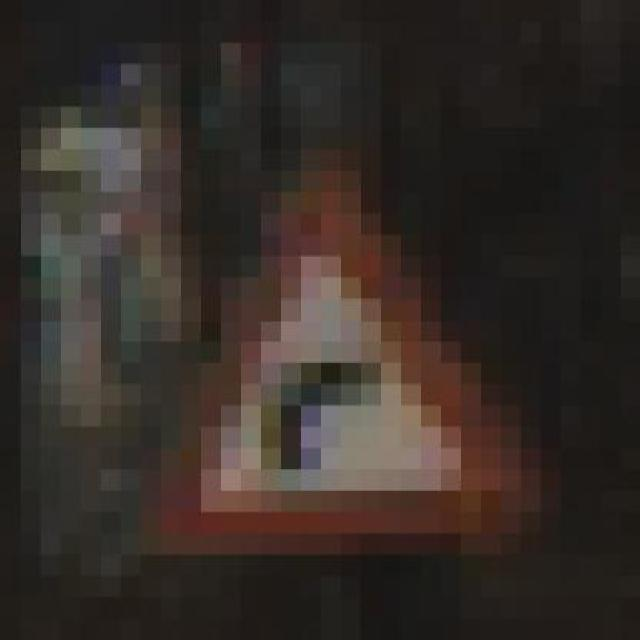Dangerous Rright Curve Ahead: (100, 150, 540, 556)
